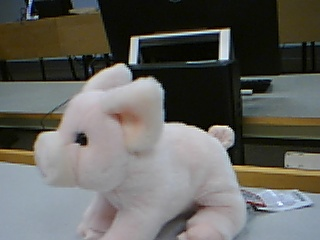piggy: (32, 61, 250, 240)
